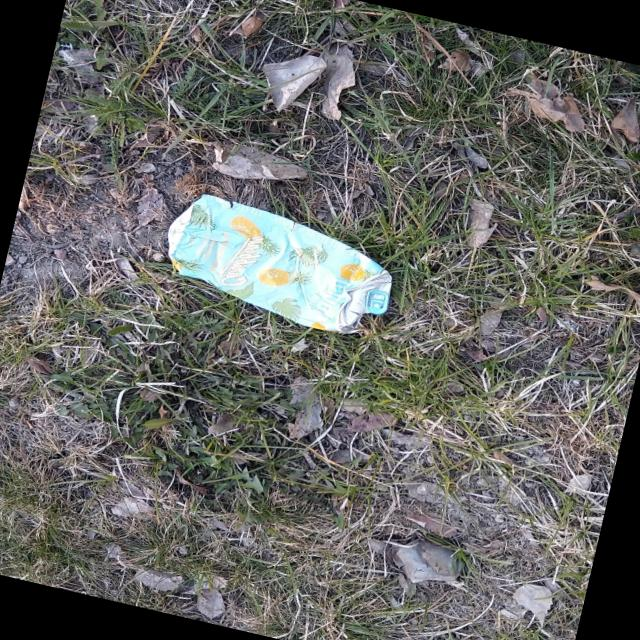less trash: (167, 194, 392, 332)
